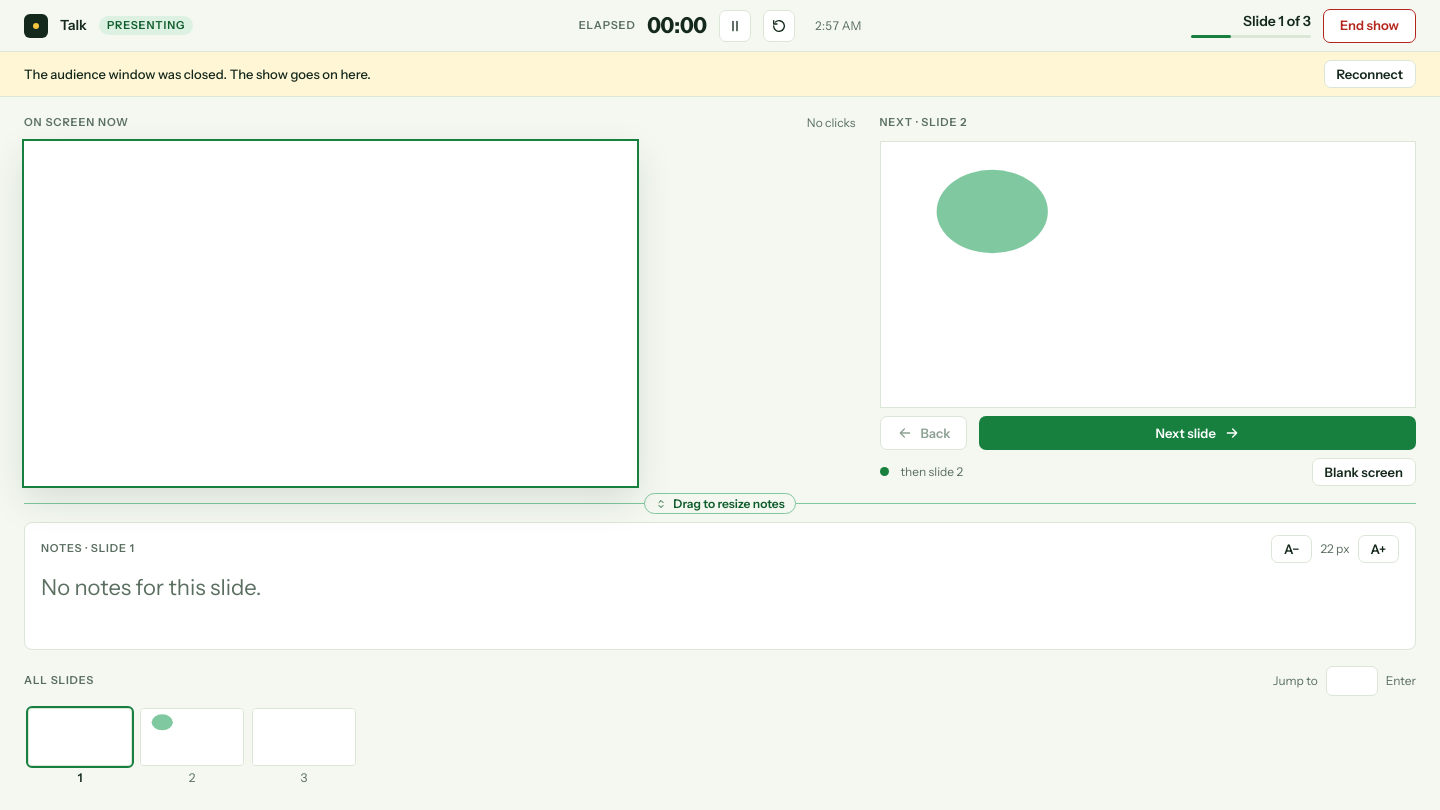
the presenter view when the audience window is gone (PM-3) › Given an audience window that is gone, Then the view says so and offers Reconnect; given it is not, Then it says nothing
Click the button "Reconnect" at (1370, 74), box [1324,60,1416,88]
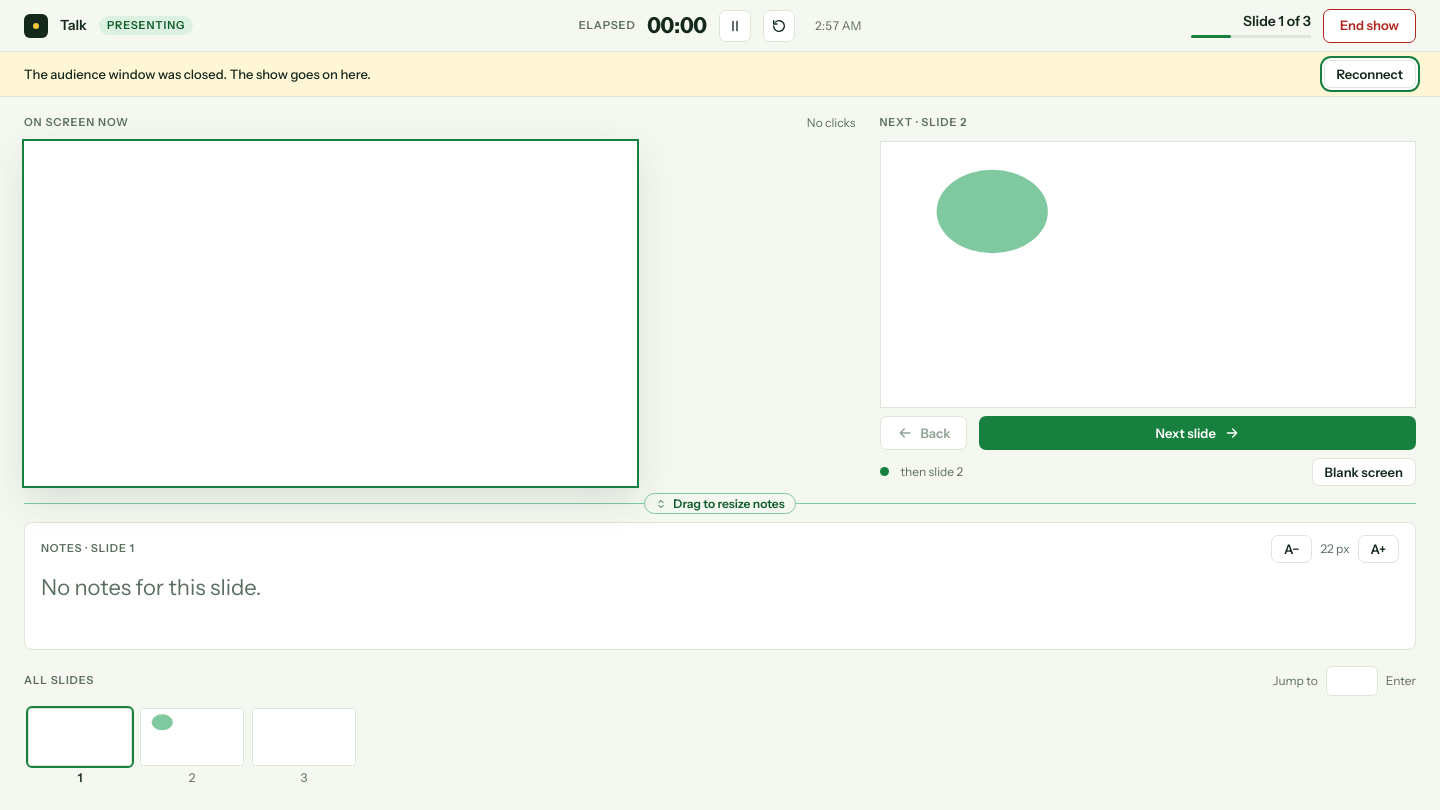
The show goes on meanwhile.
Press Arrowright
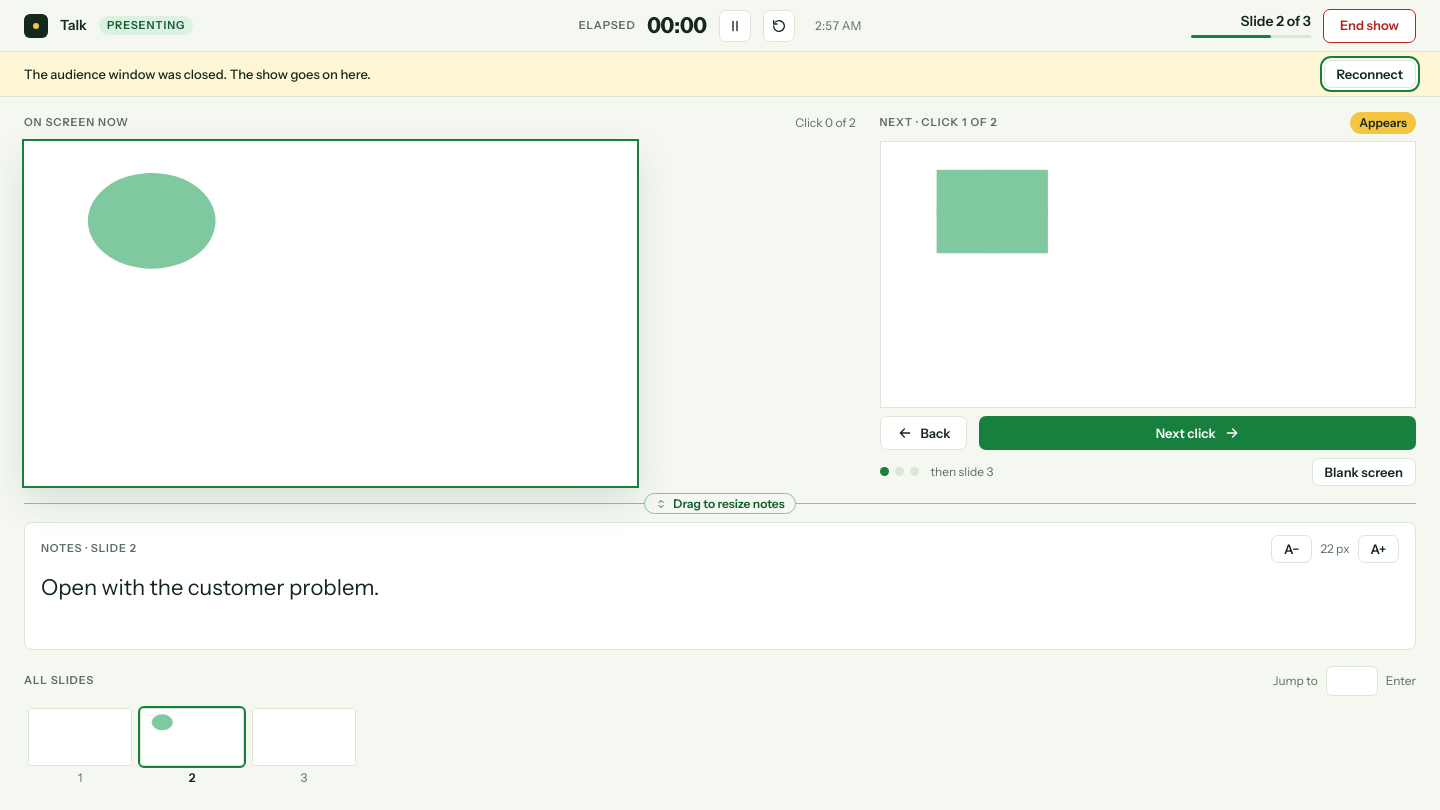
expect the text "Slide 2 of 3" is shown: met, box [1241,13,1311,30]
